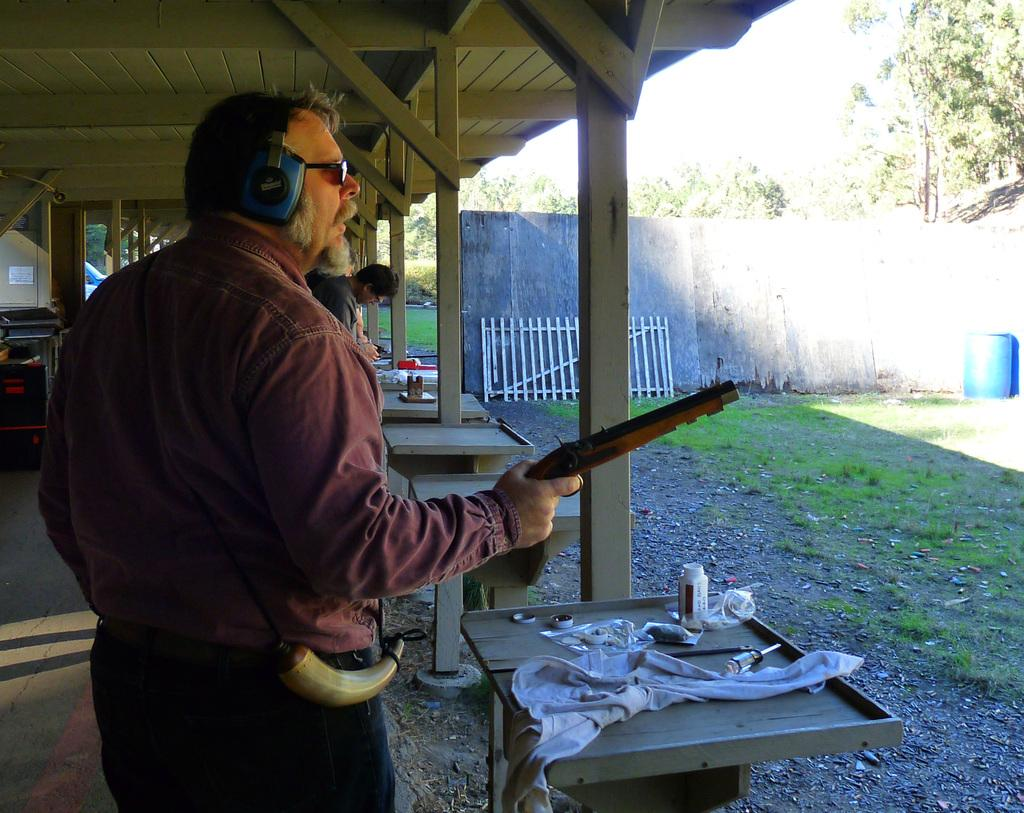Rifle: (467, 374, 744, 548)
